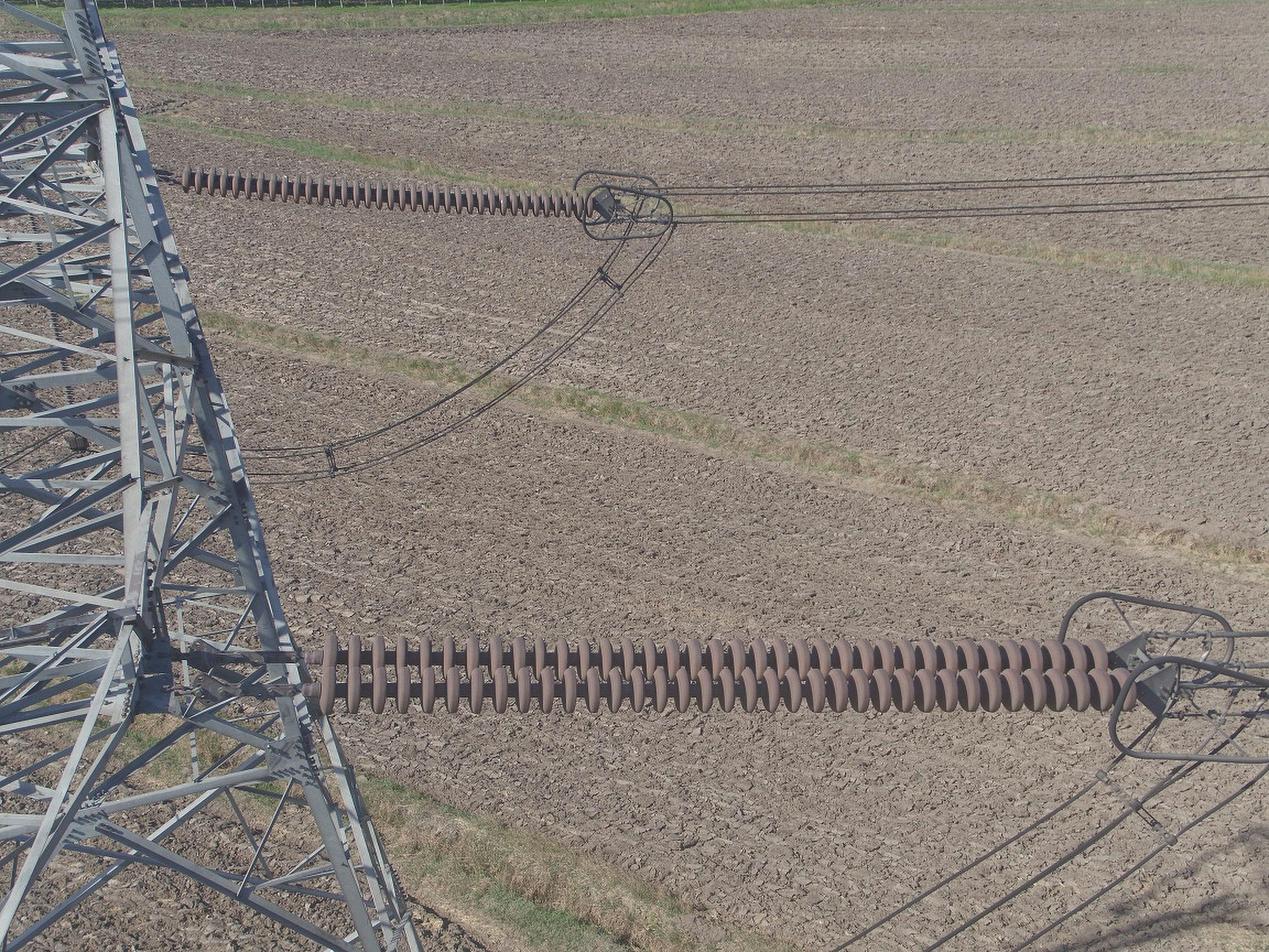insulator: (311, 625, 1143, 721), (177, 160, 596, 221), (44, 304, 78, 406), (24, 194, 45, 257)
